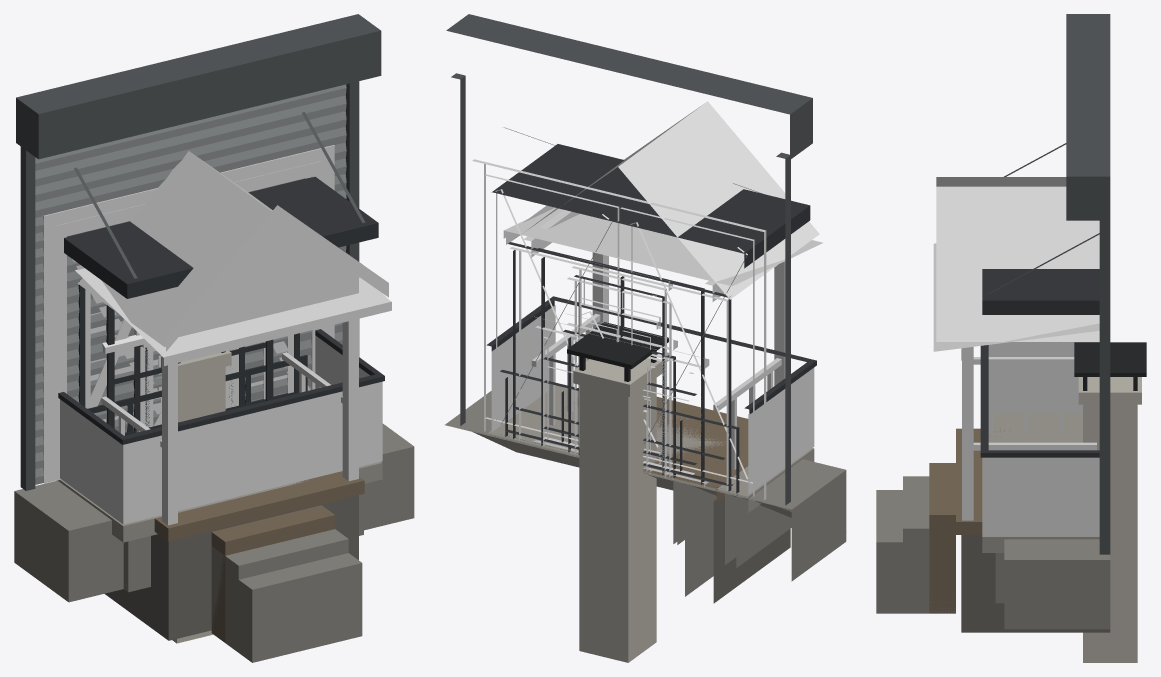
3 renders of one model, left to right at view 1: azimuth 30°, elevation 25°; view 2: azimuth 150°, elevation 25°; view 3: azimuth 270°, elevation 25°, orthographic. The views are drawn at different scales.
Parts seen in each view (by area): view 1: roller_door__fixed, porch__fixed, balcony__accent, entrance__fixed, porch__roof, porch__trim, barn_door__trim, porch__wall, balcony__fixed, porch_low__trim, porch_low__roof, chimney__fixed (+7 smaller); view 2: chimney__fixed, roller_door__fixed, entrance__fixed, porch__roof, balcony__accent, porch__fixed, balcony__fixed, porch_low__roof, barn_door__trim, porch__trim, door__fixed, shopfront__fixed (+11 smaller); view 3: roller_door__fixed, porch__roof, porch__fixed, balcony__accent, chimney__fixed, entrance__fixed, balcony__fixed, porch__trim, porch_low__roof, porch_low__trim.
Boxes of the visible parts, x1,y1,x2,y2 form: roller_door__fixed: [14, 14, 414, 602]; porch__fixed: [104, 471, 364, 662]; balcony__accent: [60, 335, 382, 524]; entrance__fixed: [64, 112, 378, 592]; porch__roof: [77, 151, 272, 346]; porch__trim: [101, 205, 388, 525]; barn_door__trim: [43, 145, 334, 483]; porch__wall: [162, 220, 359, 325]; balcony__fixed: [58, 329, 384, 542]; porch_low__trim: [162, 301, 391, 524]; porch_low__roof: [75, 268, 390, 357]; chimney__fixed: [161, 350, 231, 643]; chimney__fixed: [567, 322, 668, 662]; roller_door__fixed: [445, 14, 846, 581]; entrance__fixed: [492, 127, 810, 567]; porch__roof: [511, 101, 819, 299]; balcony__accent: [491, 305, 814, 494]; porch__fixed: [566, 396, 790, 603]; balcony__fixed: [486, 296, 816, 512]; porch_low__roof: [504, 207, 823, 286]; barn_door__trim: [472, 159, 766, 500]; porch__trim: [506, 205, 785, 469]; door__fixed: [643, 471, 716, 596]; shopfront__fixed: [508, 242, 731, 491]; roller_door__fixed: [1004, 14, 1110, 629]; porch__roof: [936, 177, 1099, 341]; porch__fixed: [876, 428, 1110, 632]; balcony__accent: [982, 342, 1099, 535]; chimney__fixed: [1074, 342, 1146, 662]; entrance__fixed: [982, 143, 1099, 603]; balcony__fixed: [980, 345, 1099, 552]; porch__trim: [962, 347, 1096, 520]; porch_low__roof: [933, 243, 1099, 351]; porch_low__trim: [961, 348, 973, 520].
Size of the model in its own units: 4.4 by 6.95 by 3.06.
